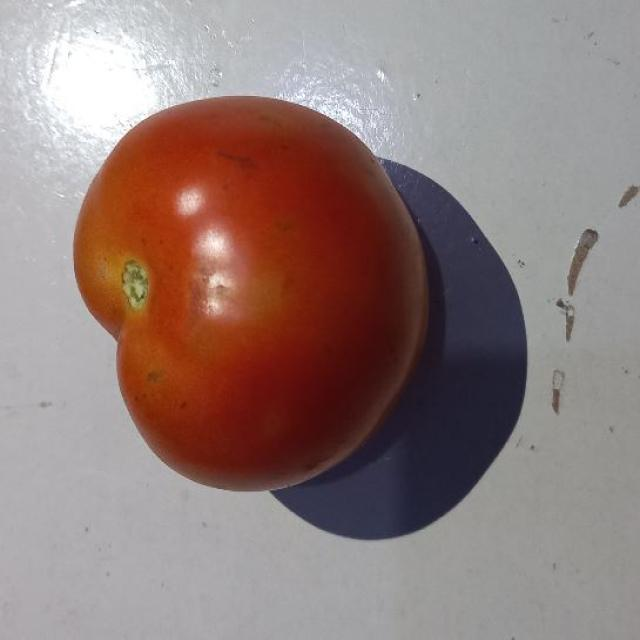ripe tomato: (53, 91, 433, 492)
